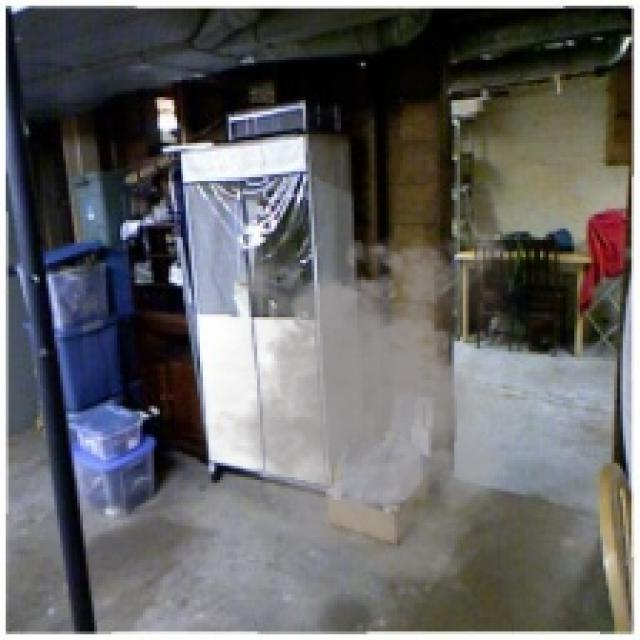smoke: (177, 217, 566, 589)
